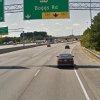Car: (51, 49, 77, 74)
